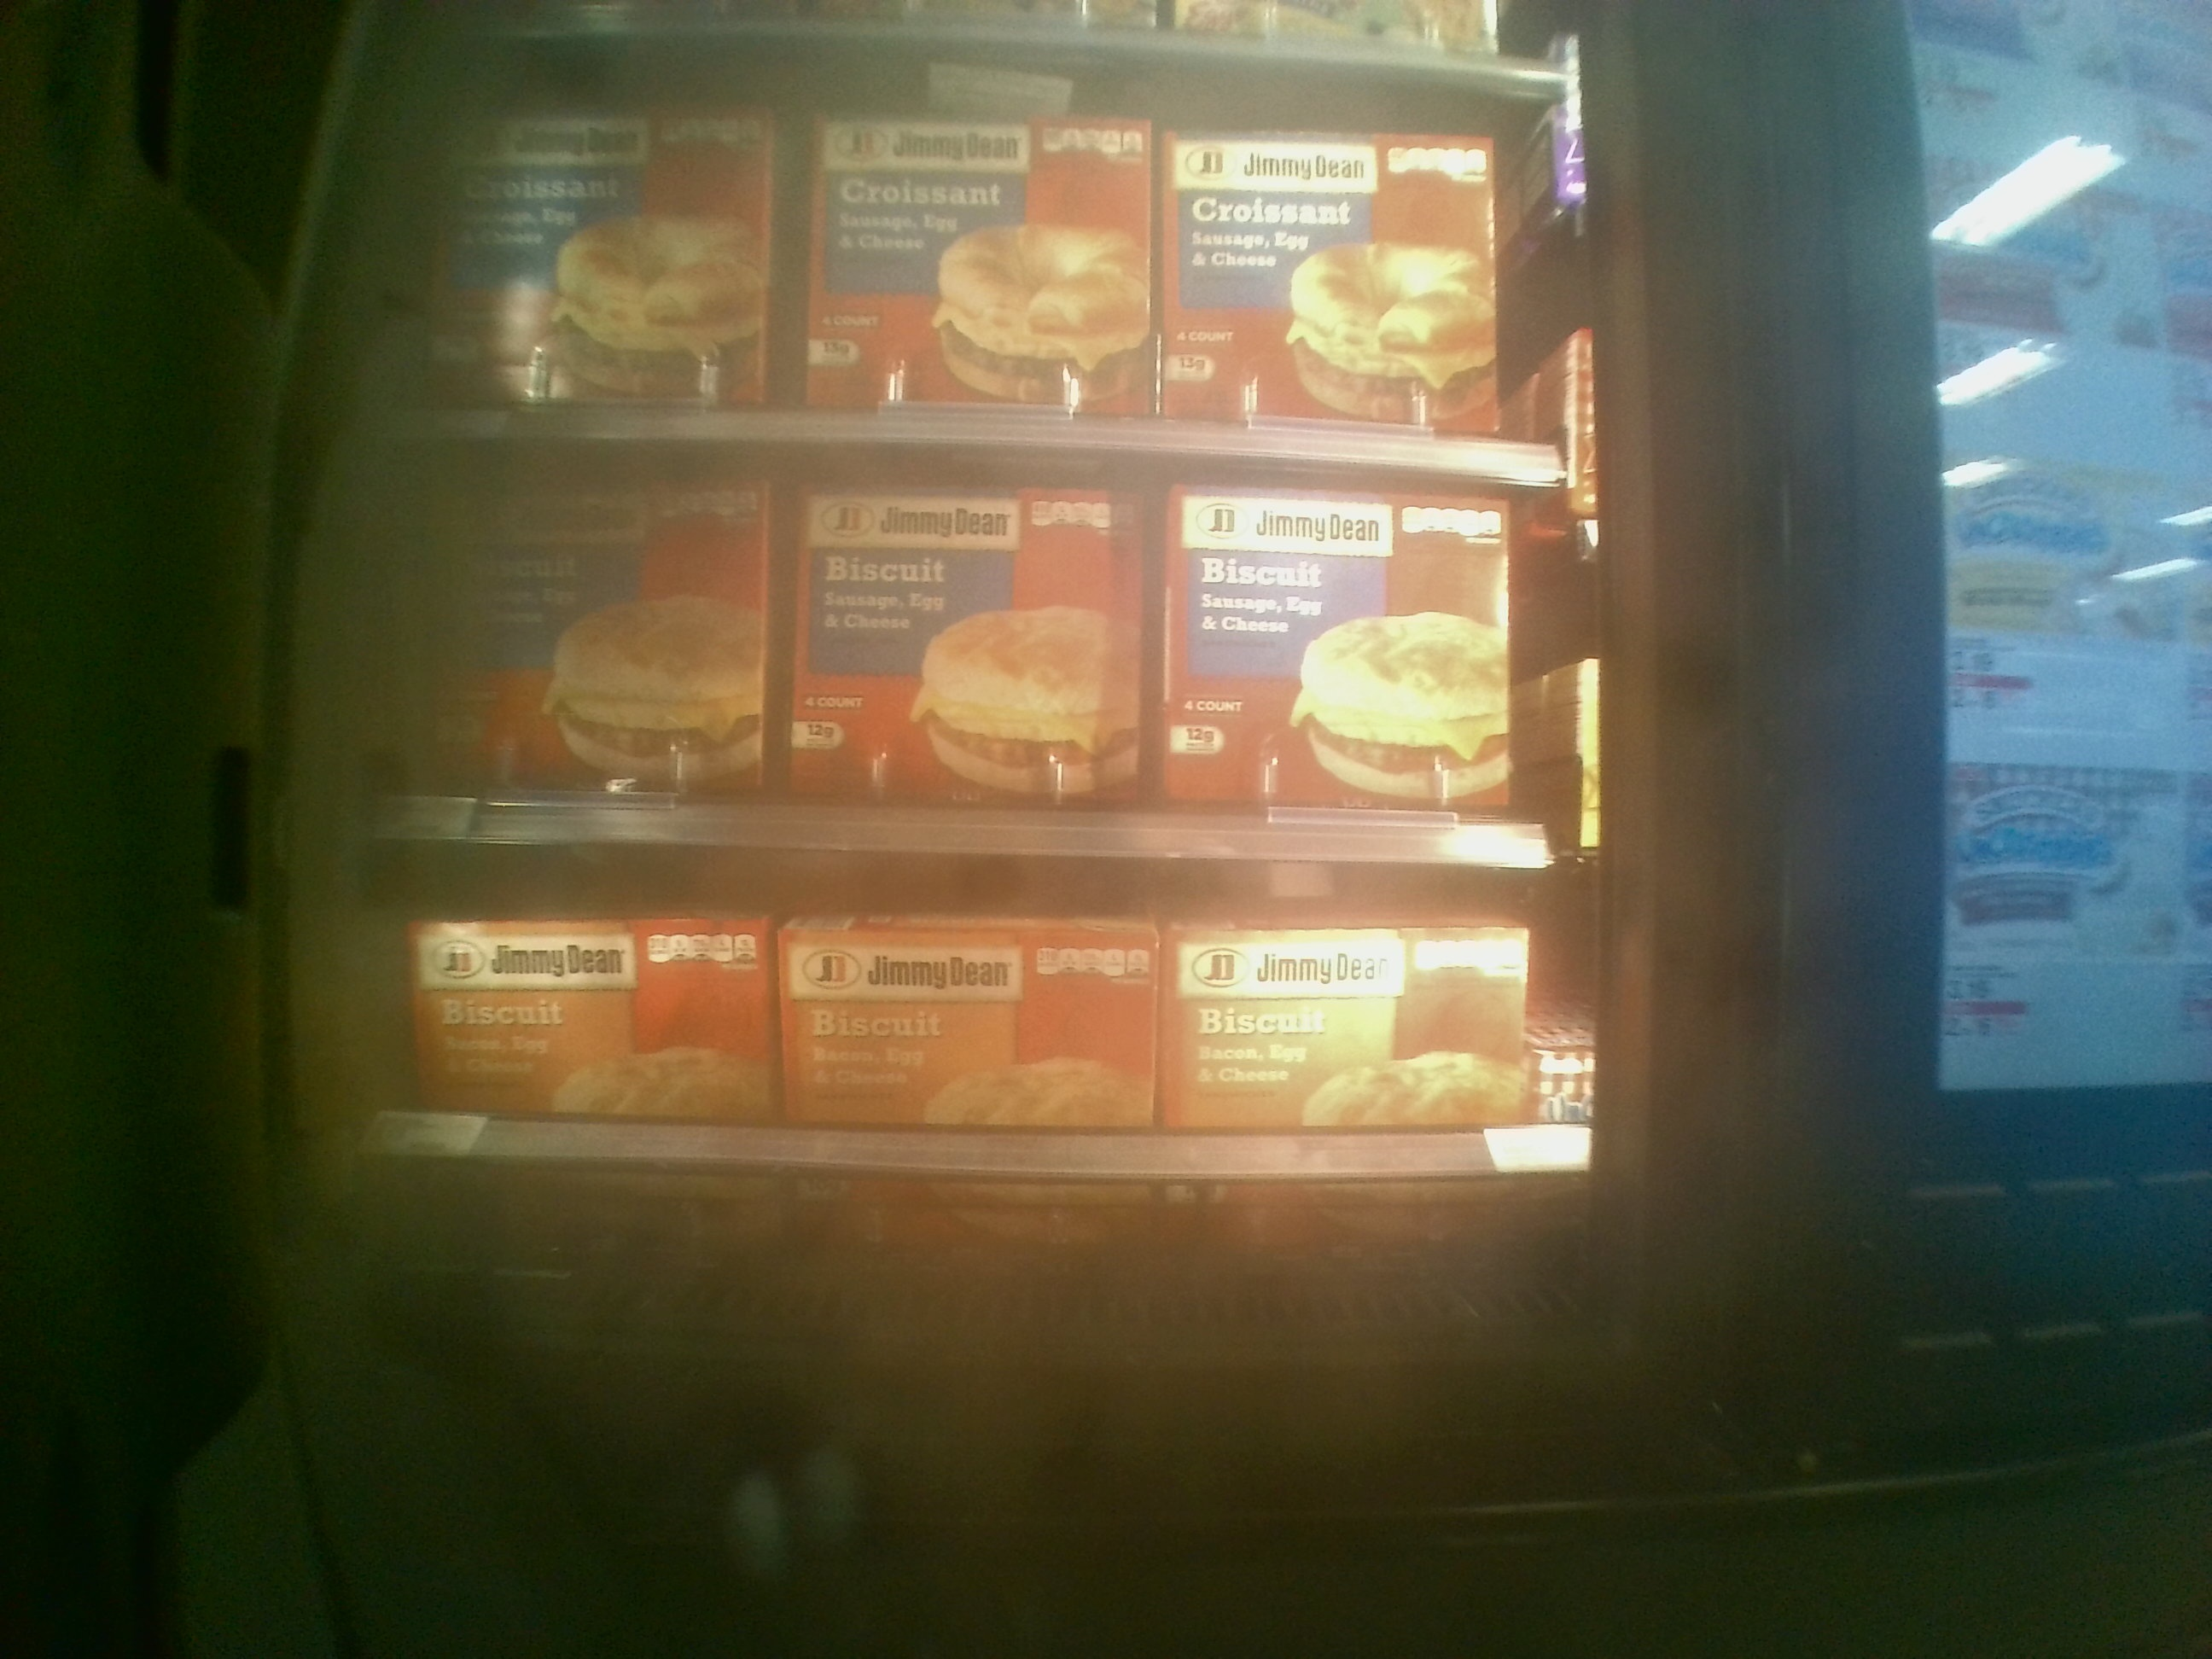frozen-food-shelf: (364, 836, 1606, 1178)
